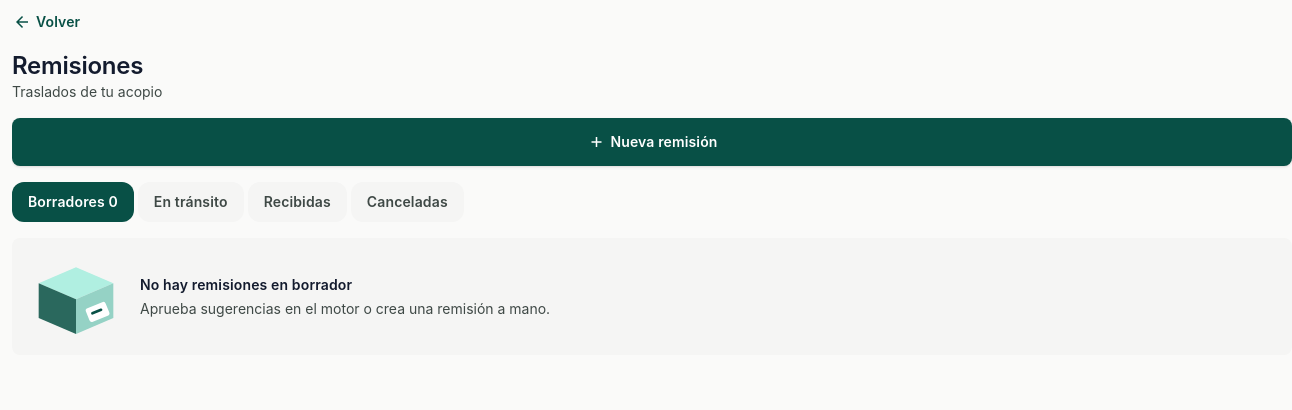
Test: cambiar de estado pide ese estado y lo deja en la URL
What coordinates should you click on to do the following:
click the button "En tránsito"
I would click on:
 (191, 202)
Its box is [138,182,244,222].
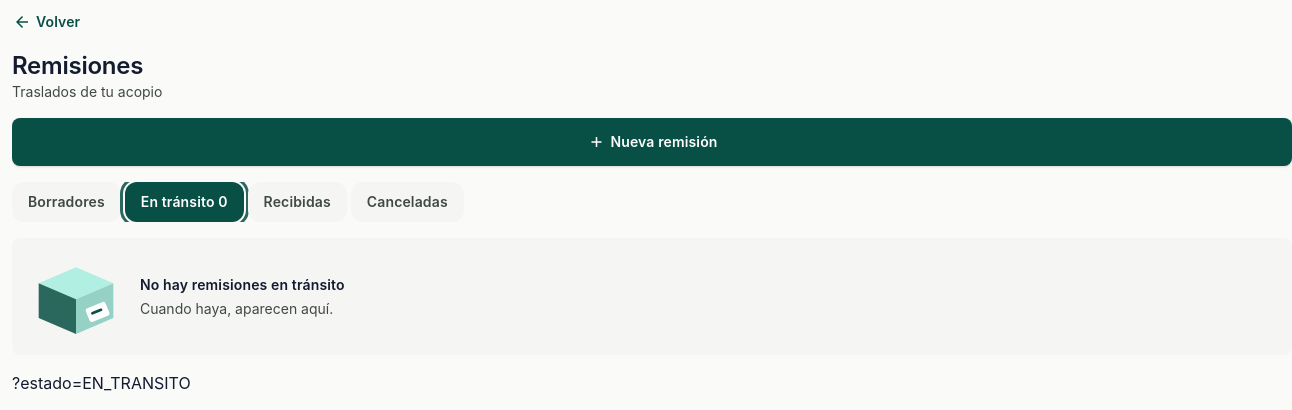
Check: the text "No hay remisiones en tránsito" is shown, box [140,275,345,295]
Check: the text with test id "busqueda" shows "estado=EN_TRANSITO", box [12,373,191,393]
